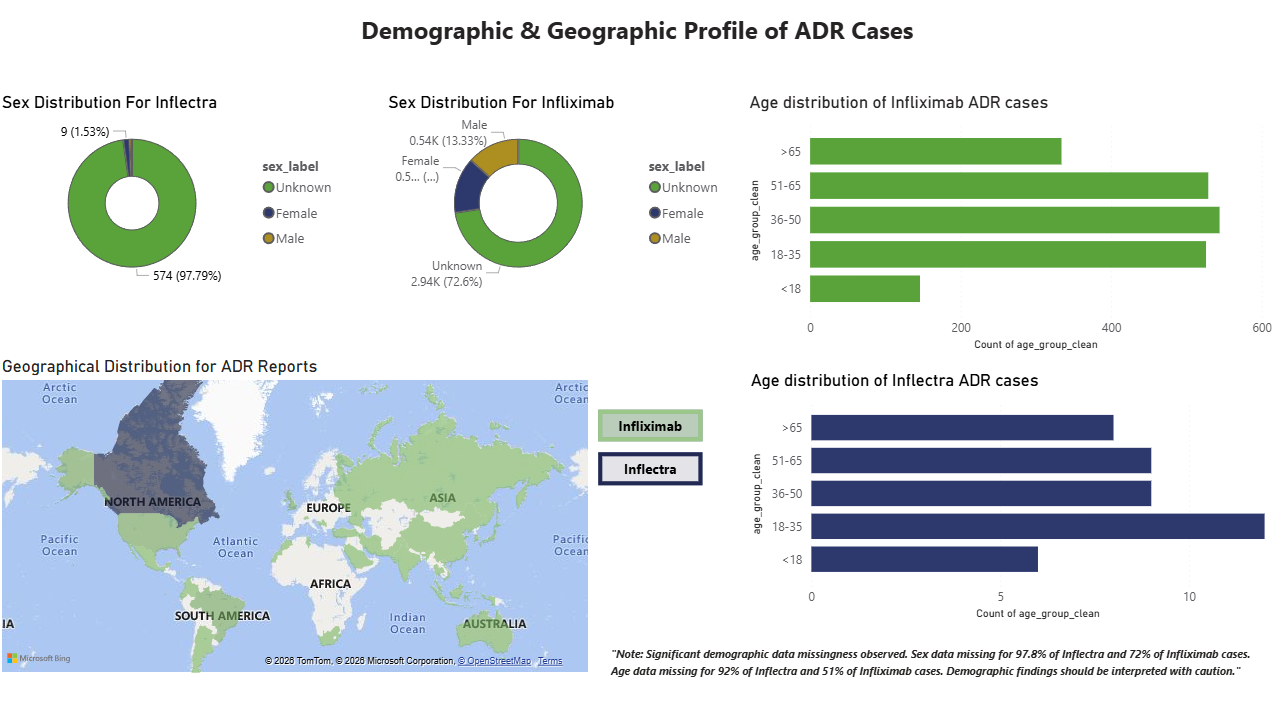

The dashboard page shown, as its layout file describes it:
{"tool":"powerbi","page":{"name":"DEMOGRAPHICS","canvas":[1280,720],"ordinal":2},"visuals":[{"type":"donutChart","title":"Sex Distribution For Inflectra ","fields":{"Category":["demo_biosimilar.sex_label"],"Y":["CountNonNull(demo_biosimilar.sex_label)"]},"box":[0,96.6,348.5,203],"z":0},{"type":"donutChart","title":"Sex Distribution For Infliximab","fields":{"Category":["demo_originator.sex_label"],"Y":["CountNonNull(demo_originator.sex_label)"]},"box":[386.4,96.6,348.5,203],"z":1000},{"type":"textbox","box":[609.3,642.2,671,78.2],"z":3000},{"type":"filledMap","title":"Geographical Distribution for ADR Reports","fields":{"Category":["demo_originator.country_label"]},"box":[0,359.5,595.5,321.6],"z":4000},{"type":"actionButton","title":"Adr distribution reports for Infliximab","box":[596.1,409.3,114.2,41.5],"z":5000},{"type":"actionButton","title":"Adr distribution reports for Inflectra","box":[596.1,450.8,114.2,43],"z":6000},{"type":"textbox","box":[0,12.2,1280.3,55],"z":7003},{"type":"clusteredBarChart","title":"Age distribution of Inflectra ADR cases","fields":{"Category":["demo_biosimilar.age_group_clean"],"Y":["CountNonNull(demo_biosimilar.age_group_clean)"]},"box":[749.2,373.2,531,255.2],"z":7004},{"type":"clusteredBarChart","title":"Age distribution of Infliximab ADR cases","fields":{"Category":["demo_originator.age_group_clean"],"Y":["CountNonNull(demo_originator.age_group_clean)"]},"box":[747.9,96.1,532.4,263.5],"z":7005}]}

Visuals, with their boxes in screenshot pixels (x1, y1, x2, y2), scaled from the page's 1280x720 canvas onto the 1274x711 screenshot:
"Sex Distribution For Inflectra " donutChart: bbox=[0, 95, 347, 296]
"Sex Distribution For Infliximab" donutChart: bbox=[385, 95, 731, 296]
textbox: bbox=[606, 634, 1273, 710]
"Geographical Distribution for ADR Reports" filledMap: bbox=[0, 355, 593, 673]
"Adr distribution reports for Infliximab" actionButton: bbox=[593, 404, 707, 445]
"Adr distribution reports for Inflectra" actionButton: bbox=[593, 445, 707, 488]
textbox: bbox=[0, 12, 1273, 66]
"Age distribution of Inflectra ADR cases" clusteredBarChart: bbox=[746, 369, 1273, 621]
"Age distribution of Infliximab ADR cases" clusteredBarChart: bbox=[744, 95, 1273, 355]
